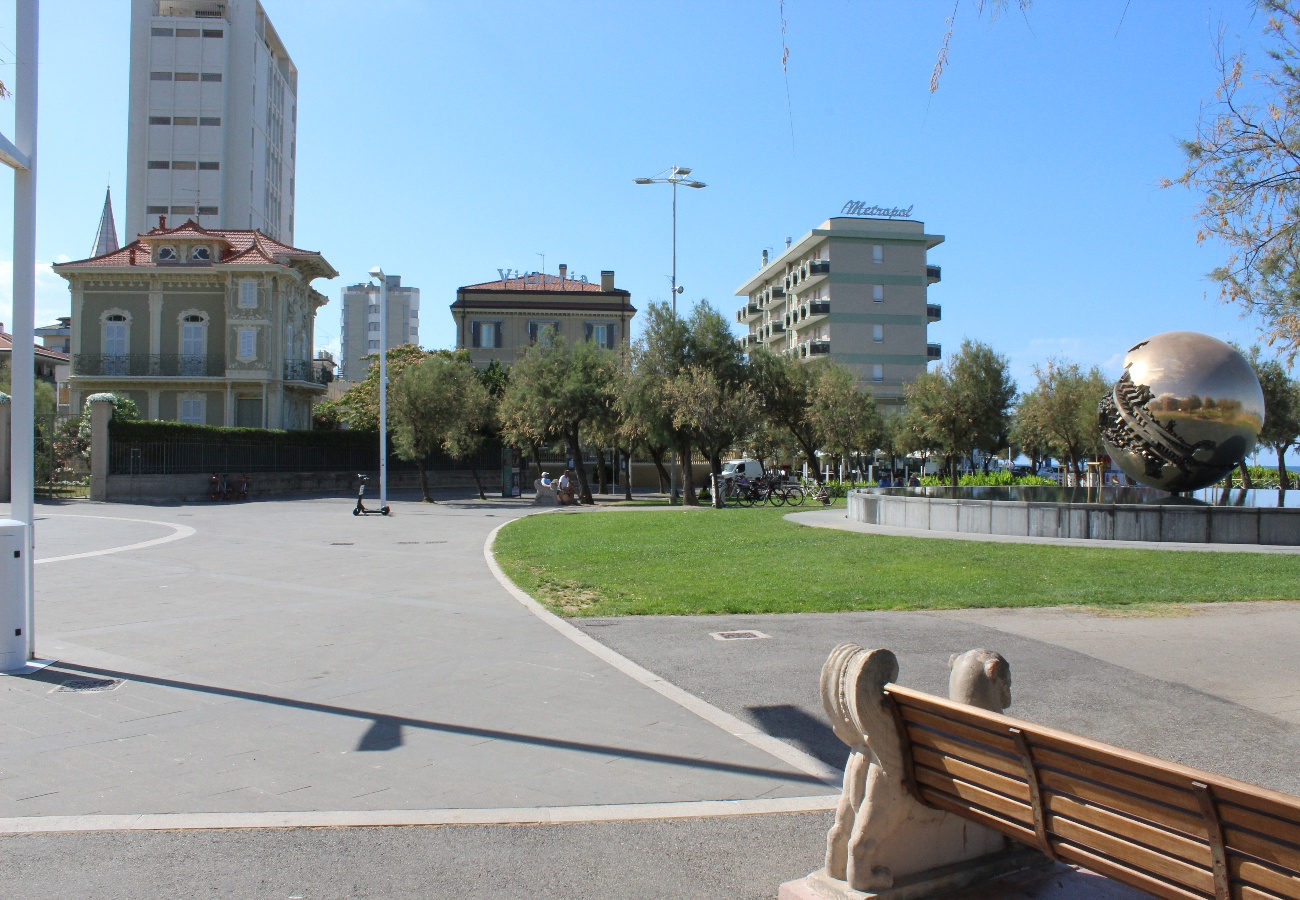Palla di Pomodoro: (1100, 331, 1266, 495)
Villino Ruggeri: (52, 189, 340, 489)
